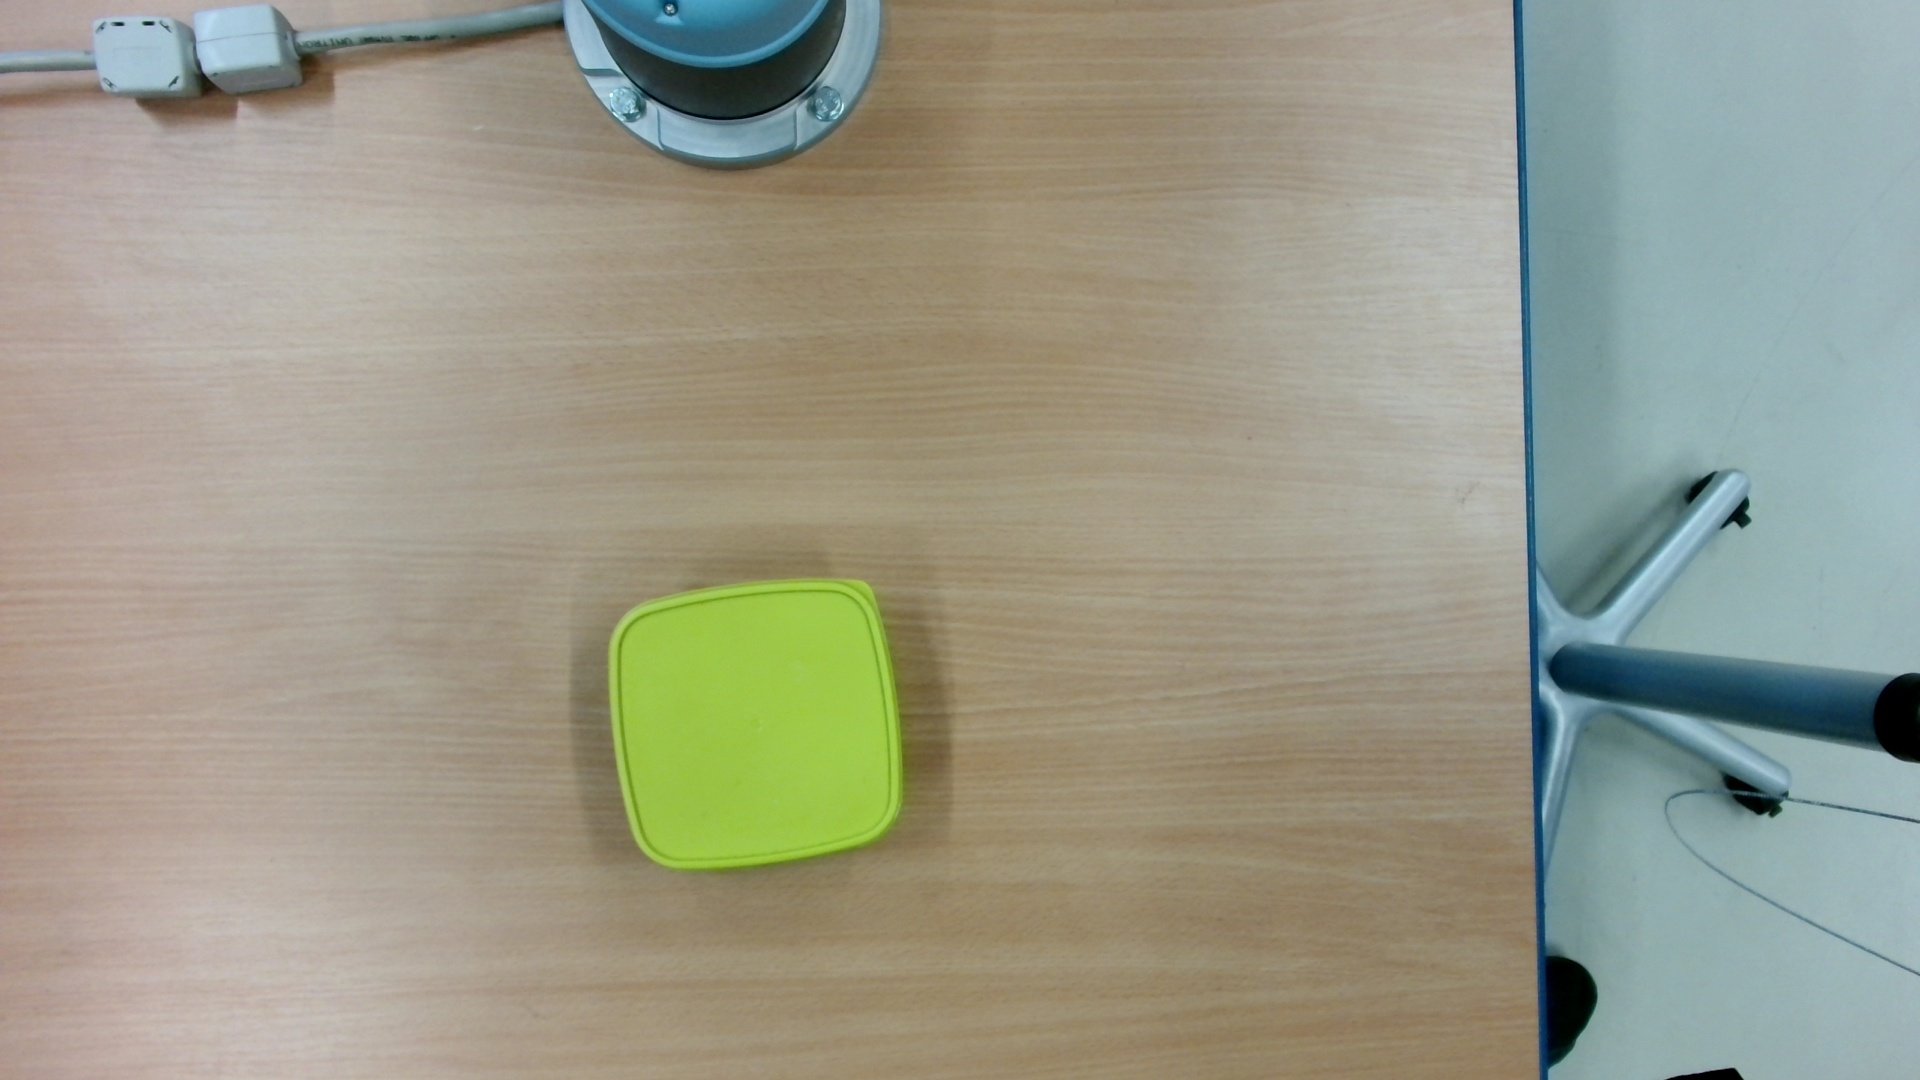Box: (603, 570, 913, 885)
